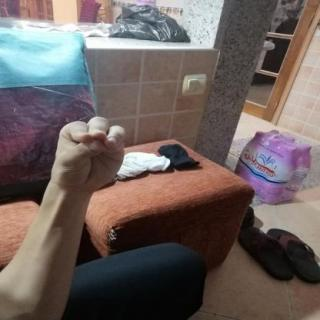HA: (34, 106, 138, 202)
